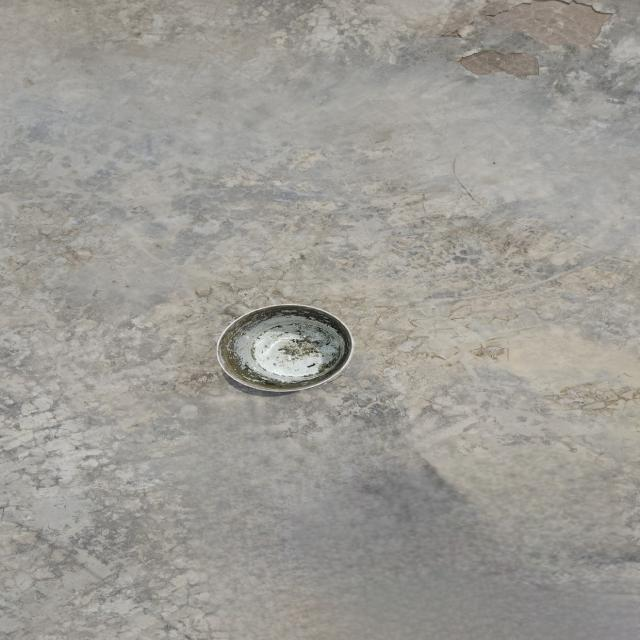Breeding Place: (192, 292, 386, 419)
